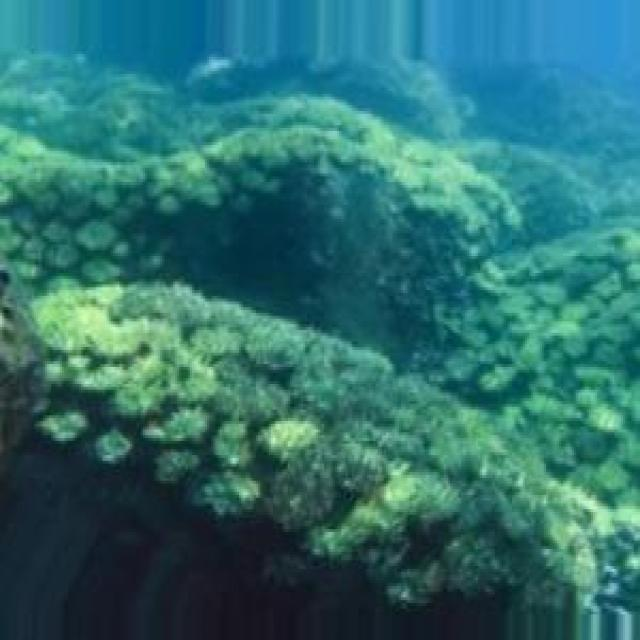Healthy: (2, 271, 640, 639), (1, 99, 520, 296), (449, 230, 640, 606)
